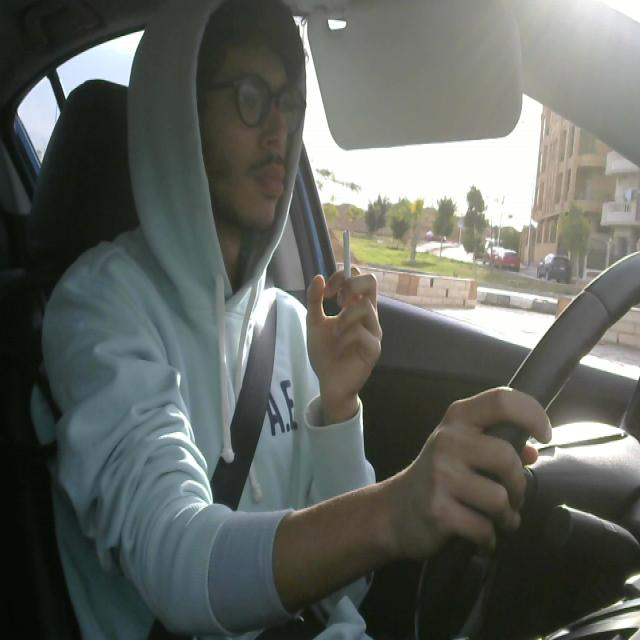smoking: (339, 227, 353, 314)
